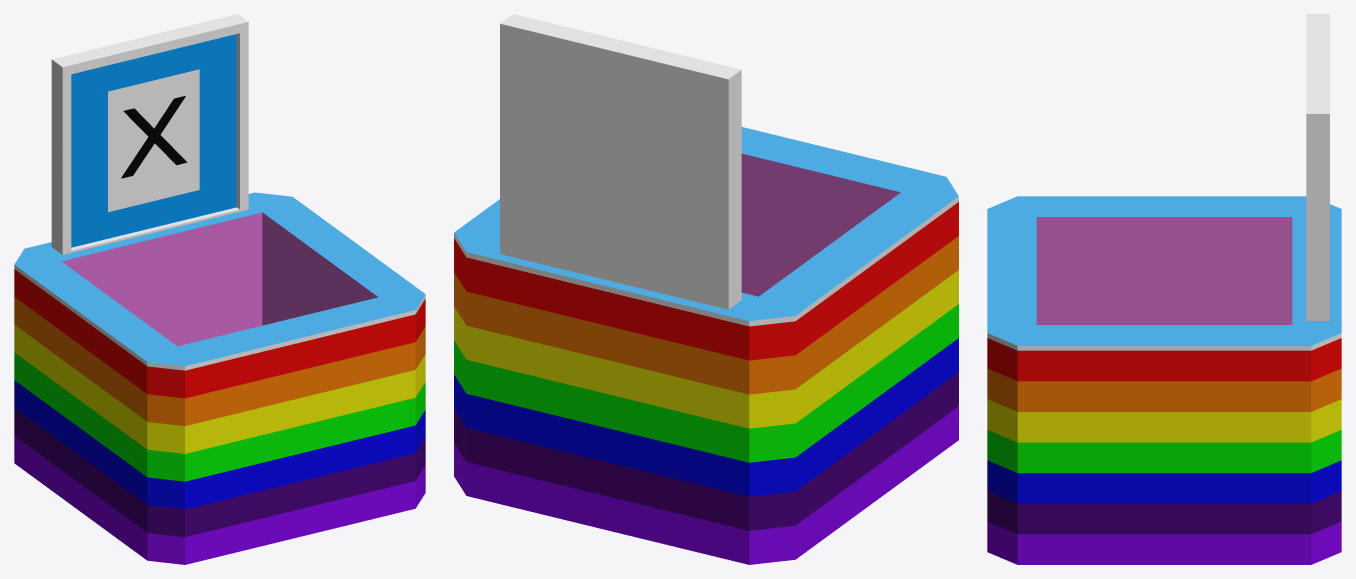
3 views of the same model, side by side, from view 1: azimuth 30°, elevation 25°; view 2: azimuth 150°, elevation 25°; view 3: azimuth 270°, elevation 25° (orthographic). The views are drawn at different scales.
Visible parts, largest first — view 1: Cube.001, Text; view 2: Cube.001; view 3: Cube.001.
Part boxes in pixels (box(x1,y1,x2,y2)): Cube.001: box(14, 14, 425, 564); Text: box(121, 96, 186, 178); Cube.001: box(454, 14, 958, 564); Cube.001: box(987, 14, 1341, 564).
Bounding box in the file's own units: 383 × 508 × 383.
